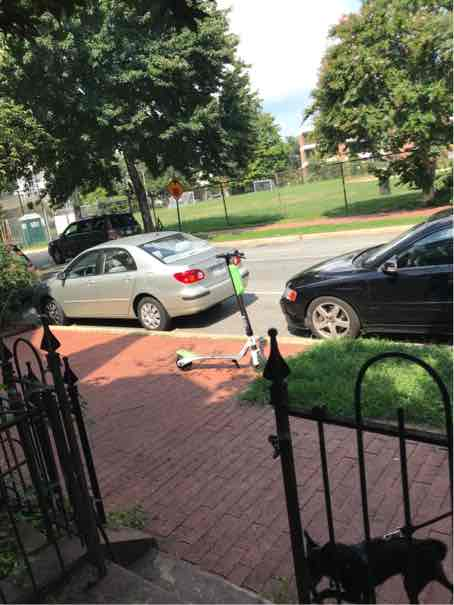scooter: (170, 241, 268, 381)
